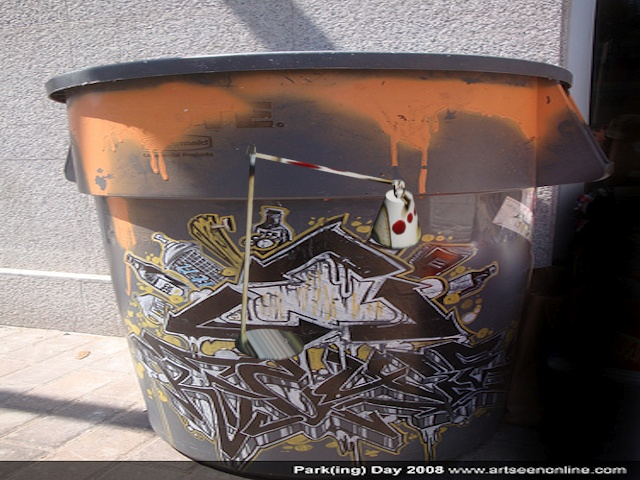desk_lamp: (233, 137, 433, 368)
